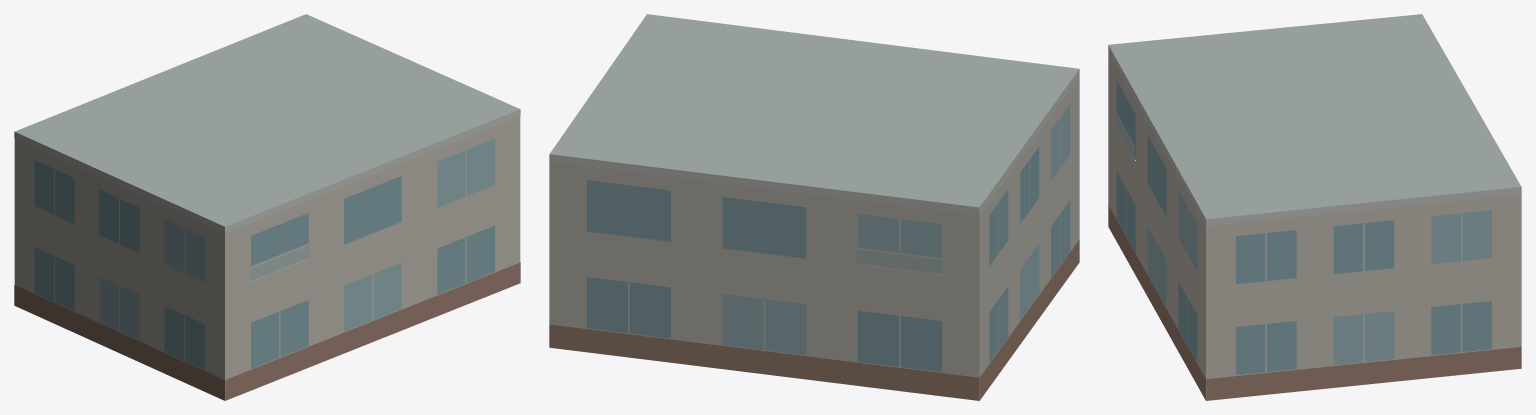
File: survey-upis-32491189.glb
3 renders of one model, left to right at view 1: azimuth 30°, elevation 25°; view 2: azimuth 150°, elevation 25°; view 3: azimuth 270°, elevation 25°, orthographic. The views are drawn at different scales.
Visible parts, largest first — view 1: survey-upis-32491189.tmp; view 2: survey-upis-32491189.tmp; view 3: survey-upis-32491189.tmp.
Part boxes in pixels (x1,y1,x2,y2): survey-upis-32491189.tmp: [14, 14, 520, 400]; survey-upis-32491189.tmp: [549, 14, 1079, 400]; survey-upis-32491189.tmp: [1108, 14, 1521, 400].
Size of the model in its own units: 14.78 by 6.1 by 12.58.
